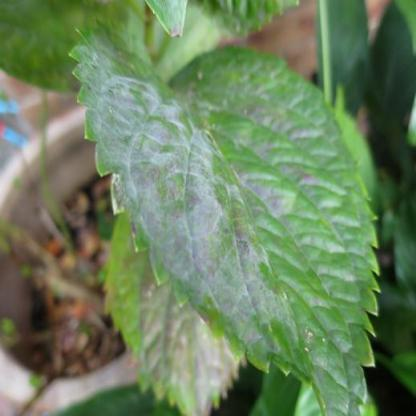Squash Powdery mildew leaf: (58, 11, 381, 415)
